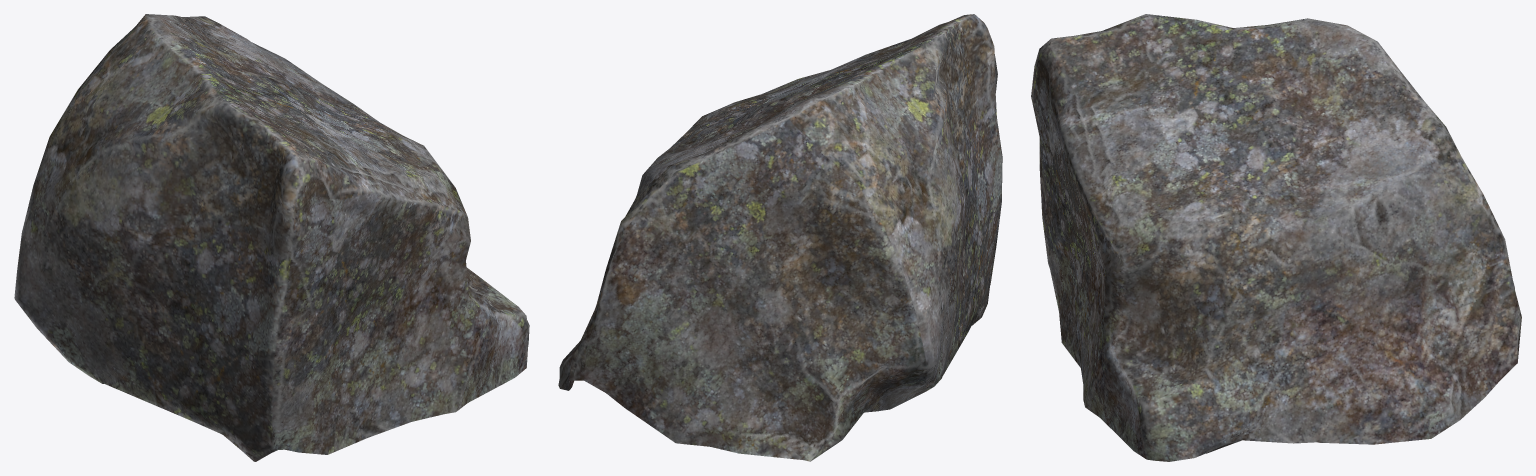
The model's file is SM_Rock_09.fbx.
The picture shows the model from 3 angles, left to right: view 1: azimuth 30°, elevation 25°; view 2: azimuth 150°, elevation 25°; view 3: azimuth 270°, elevation 25°; orthographic projection. The views are drawn at different scales.
Parts seen in each view (by area): view 1: SM_Rock_09_LOD0; view 2: SM_Rock_09_LOD0; view 3: SM_Rock_09_LOD0.
Boxes of the visible parts, <box> form: SM_Rock_09_LOD0: <box>14,14,529,461</box>; SM_Rock_09_LOD0: <box>558,14,1002,461</box>; SM_Rock_09_LOD0: <box>1031,14,1521,461</box>.
Size of the model in its own units: 332 by 371 by 263.
